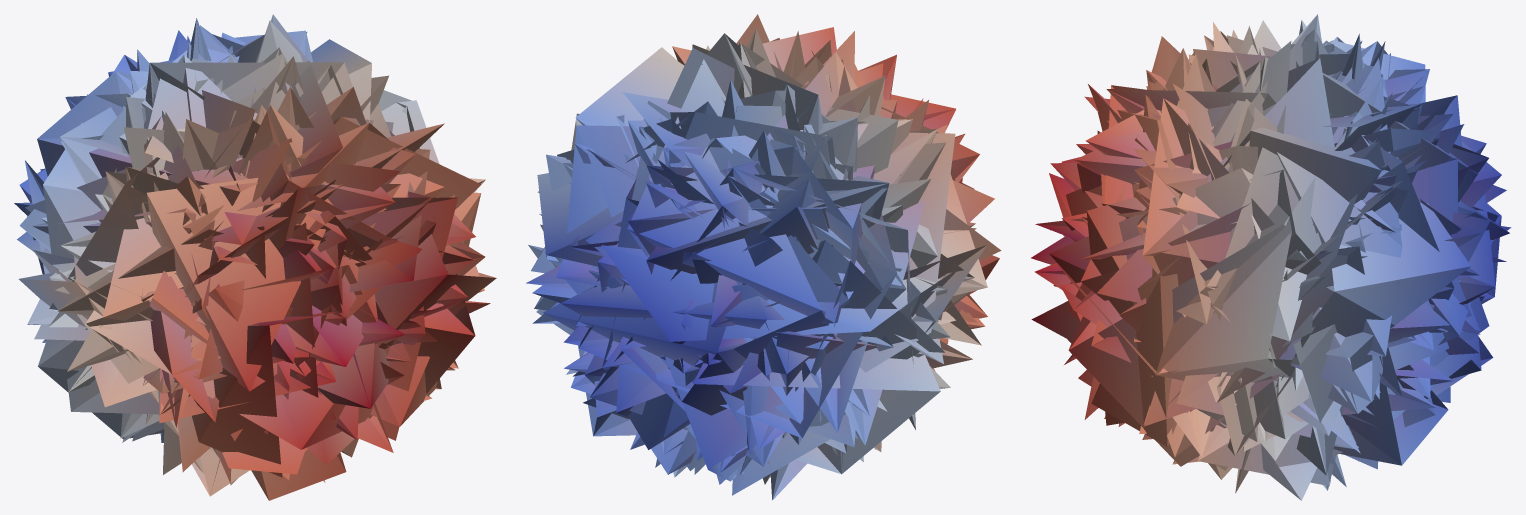
File: PointCloud.fbx
3 views of the same model, side by side, from view 1: azimuth 30°, elevation 25°; view 2: azimuth 150°, elevation 25°; view 3: azimuth 270°, elevation 25° (orthographic).
Visible parts, largest first — view 1: PointCloud-0_ncl1_5; view 2: PointCloud-0_ncl1_5; view 3: PointCloud-0_ncl1_5.
Boxes of the visible parts, x1=… form: PointCloud-0_ncl1_5: x1=14, y1=14, x2=496, y2=500; PointCloud-0_ncl1_5: x1=526, y1=14, x2=1001, y2=500; PointCloud-0_ncl1_5: x1=1031, y1=14, x2=1511, y2=500.
Bounding box in the file's own units: 1.97 × 1.97 × 1.9.
